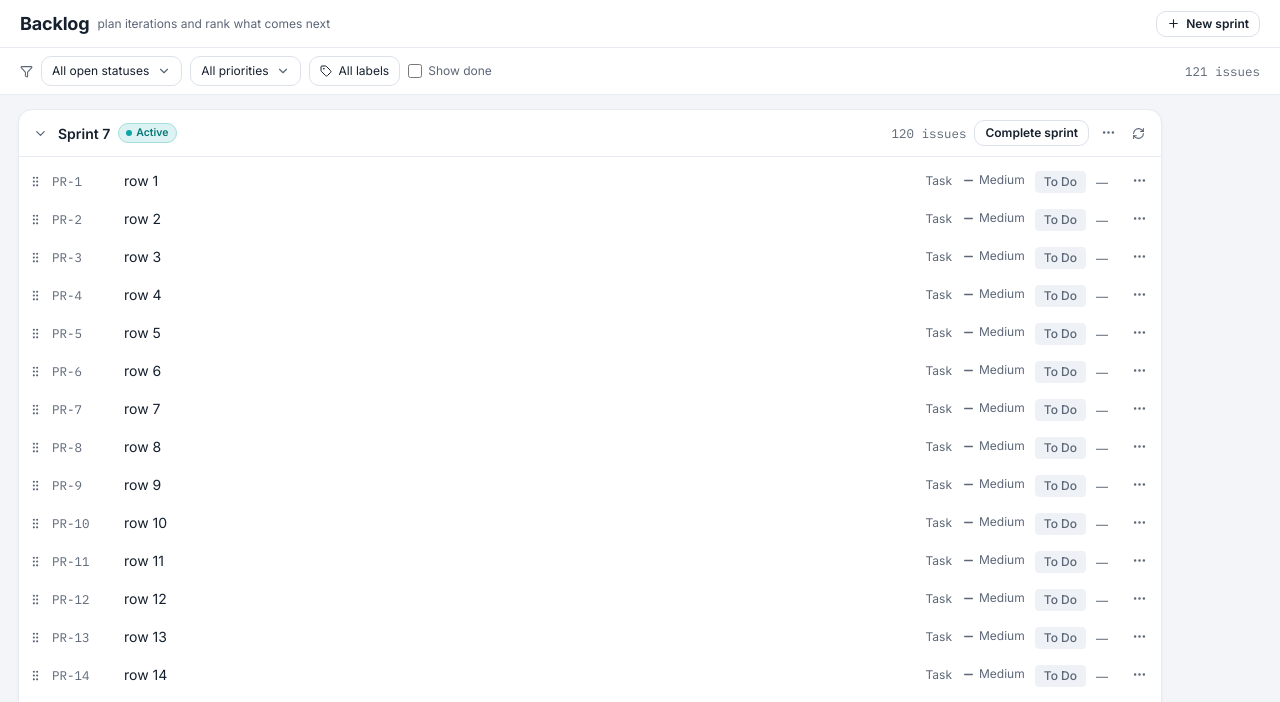
Test case: BacklogPage — refreshing one section (HD-96) › adopts the server’s counters when a filtered, truncated section is refreshed
The image size is (1280, 702).
Expected: the text "row 1" is shown, [124,172,158,189]
Click the button with aria-label "Filter by status" at (112, 71), box [41,56,182,86]
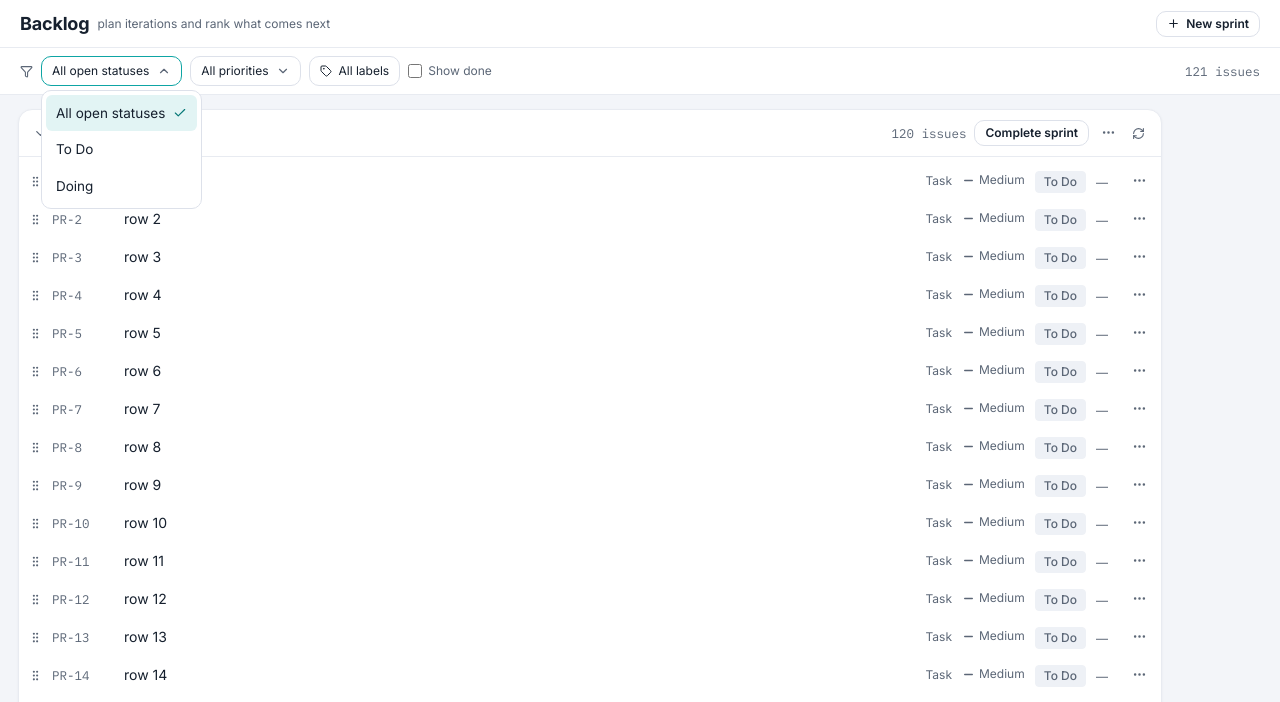
Click the option "To Do" at (75, 149), box [56,141,93,157]
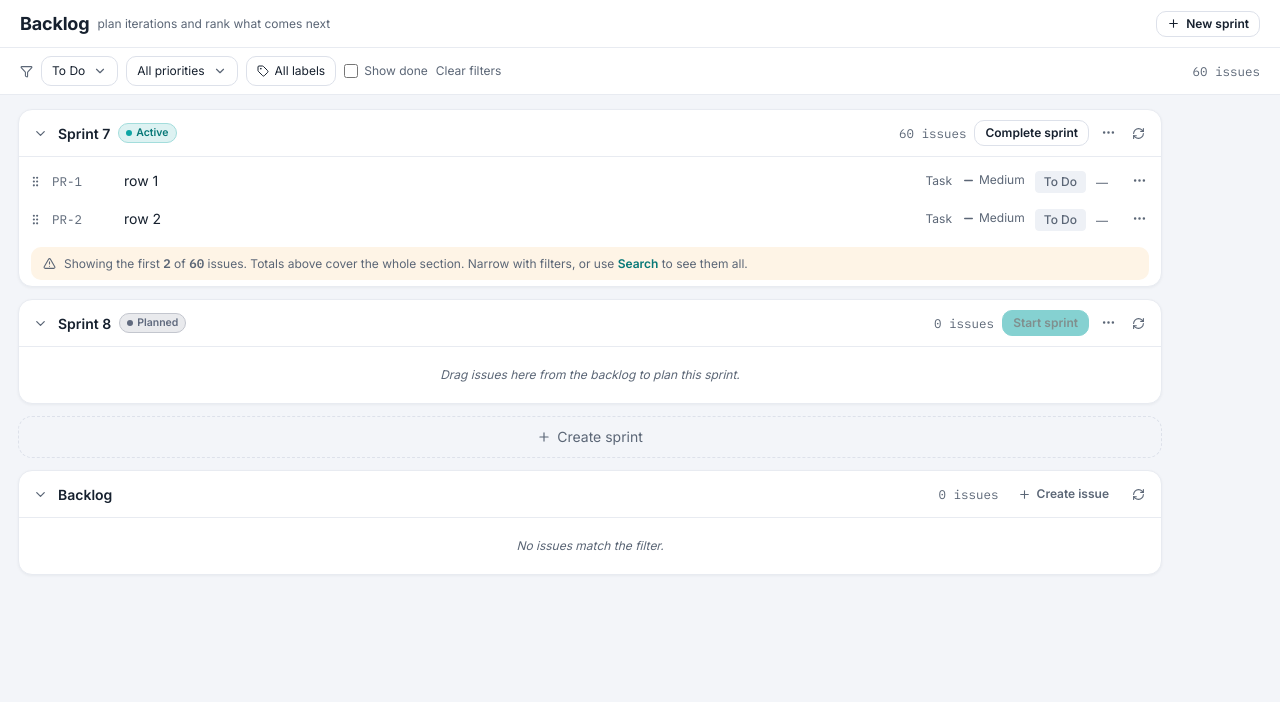
Result: the text "60 issues" in the row of "Show done" is shown at [1192,63,1260,79]
Result: the text "Showing the first" is shown once at [64,255,748,272]
Click the button named "Refresh this section" in the row of "Active" at (1138, 133), box [1128,122,1149,144]
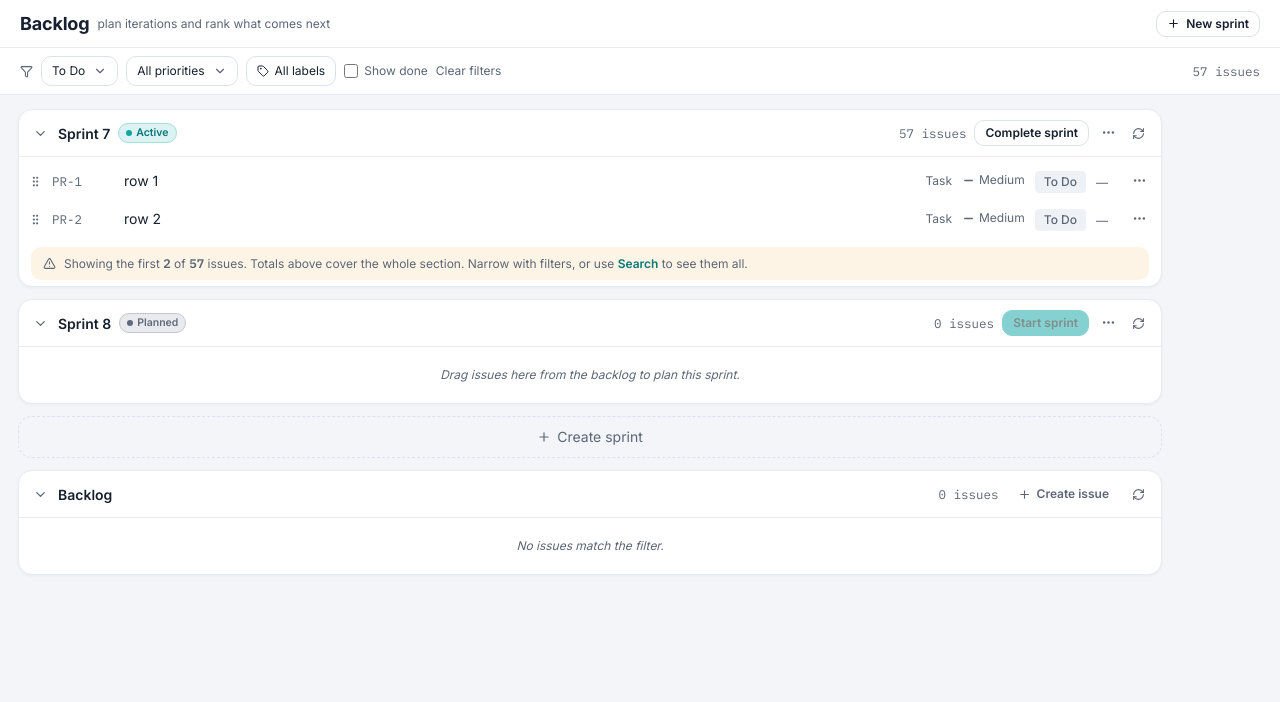
Result: the text "Showing the first" is shown once at [64,255,748,272]
Result: the text "57 issues" in the row of "Show done" is shown at [1192,63,1260,79]
Result: the text "60 issues" is not shown
